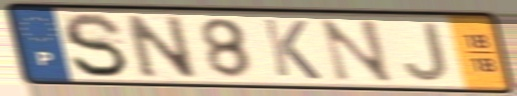8: (197, 15, 257, 80)
J: (401, 21, 452, 84)
K: (259, 16, 325, 82)
N: (120, 11, 201, 80), (316, 17, 397, 84)
S: (59, 10, 132, 80)
